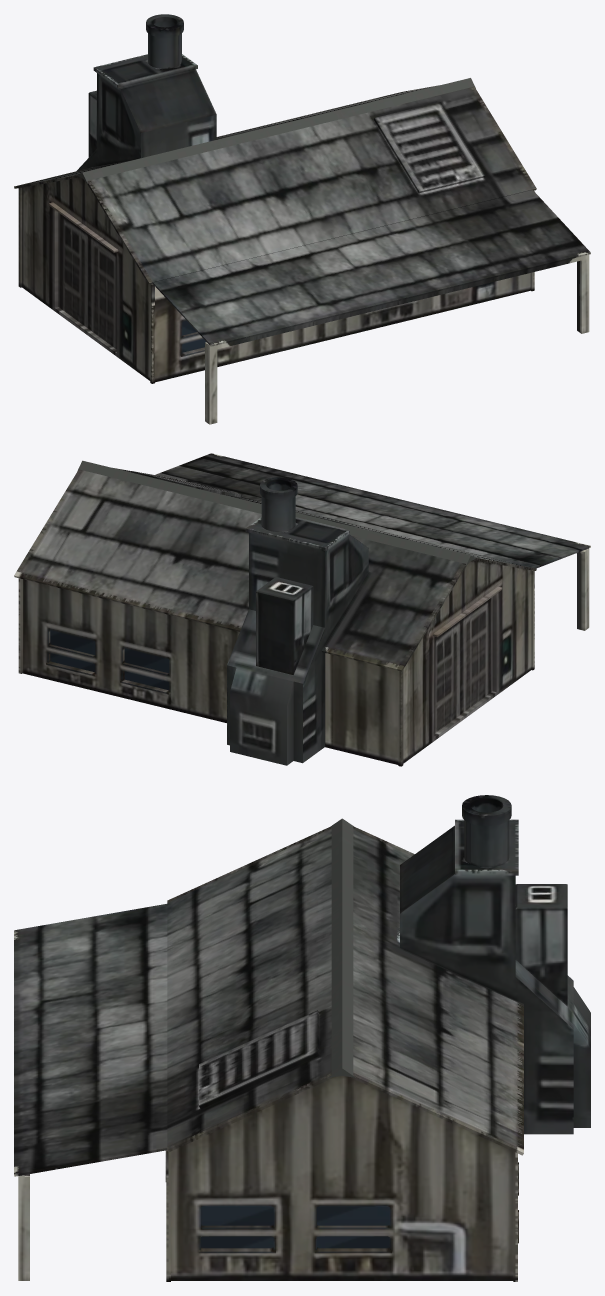
File: tinshack_cad.glb
3 views of the same model, one above another, from view 1: azimuth 30°, elevation 25°; view 2: azimuth 150°, elevation 25°; view 3: azimuth 270°, elevation 25° (orthographic). The views are drawn at different scales.
Visible parts, largest first — view 1: TinShack; view 2: TinShack; view 3: TinShack.
Boxes of the visible parts, x1,y1,x2,y2 form: TinShack: [14, 14, 590, 424]; TinShack: [14, 453, 590, 766]; TinShack: [14, 795, 590, 1281].
Size of the model in its own units: 14.99 by 8.85 by 14.62.
1 material, 1 textured.
